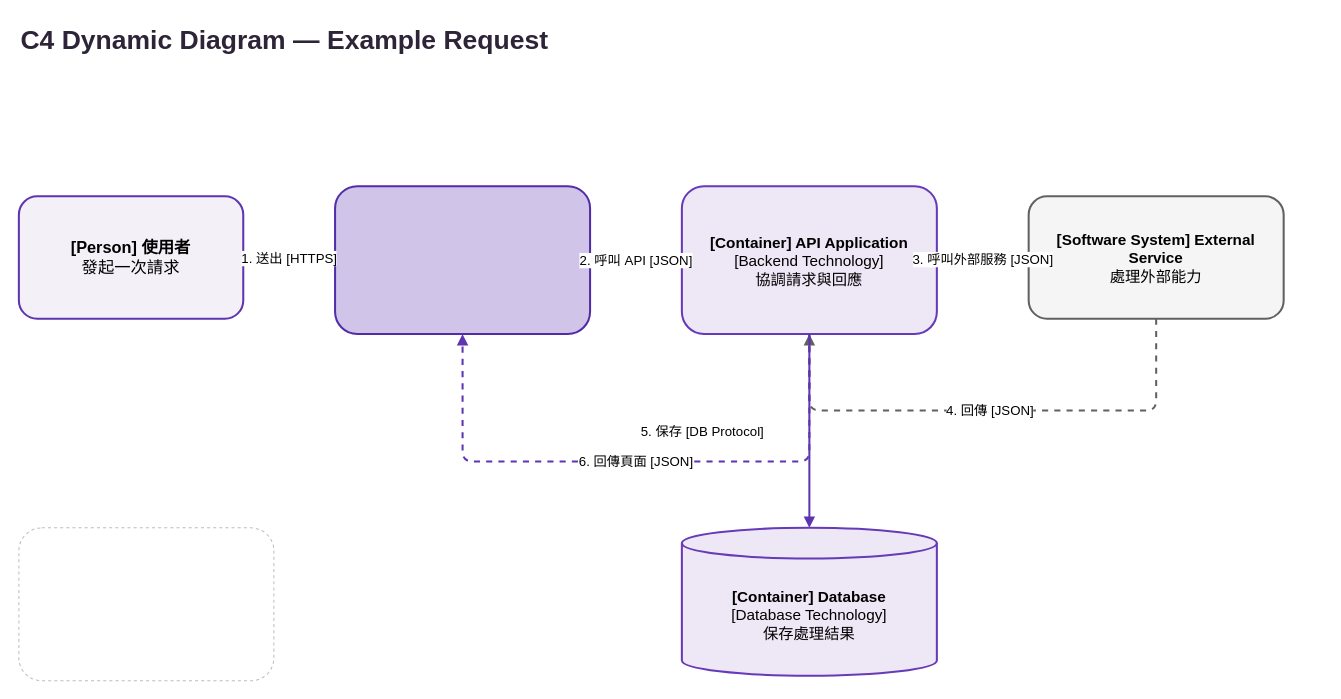
Image size: 1341x699. Some labels were removed from this diagram. The centre of each missing label's shape, as x and y in pixels:
[Container] Web Application [Web Technology] 驗證輸入並呼叫 API: the point at 462,260
圖例 (Legend) 編號：互動順序 深紫：本情境焦點 淡紫：內部 Container 灰色：外部 System: the point at 146,604
